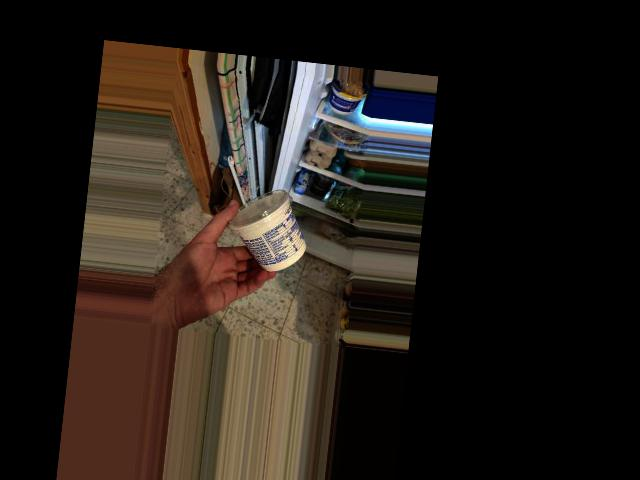cotage: (217, 188, 303, 276)
